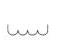inductor: (5, 20, 50, 39)
